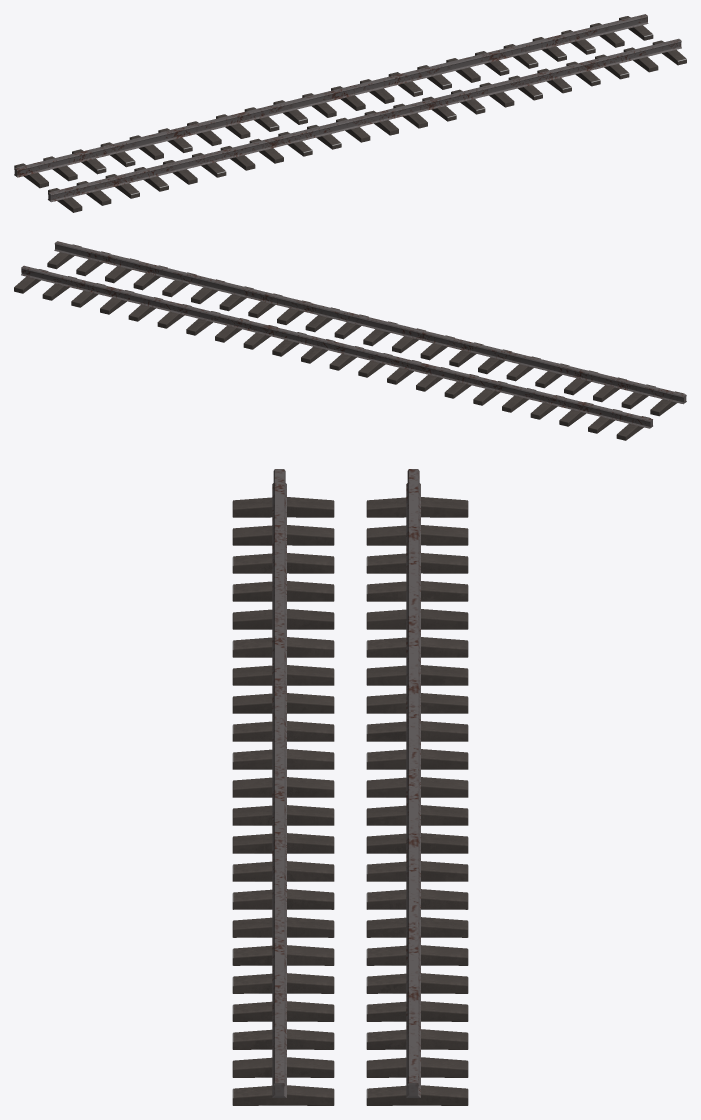
Rendered from train_tracks.glb.
The picture shows the model from 3 angles, top to bottom: view 1: azimuth 30°, elevation 25°; view 2: azimuth 150°, elevation 25°; view 3: azimuth 270°, elevation 25°; orthographic projection. The views are drawn at different scales.
Parts seen in each view (by area): view 1: Train_Track2; view 2: Train_Track2; view 3: Train_Track2.
Boxes of the visible parts, left/top/right/bottom form: Train_Track2: left=14, top=14, right=686, bottom=212; Train_Track2: left=14, top=241, right=686, bottom=440; Train_Track2: left=232, top=469, right=468, bottom=1105.
Size of the model in its own units: 21.92 by 0.4638 by 3.55.
1 material, 1 textured.
